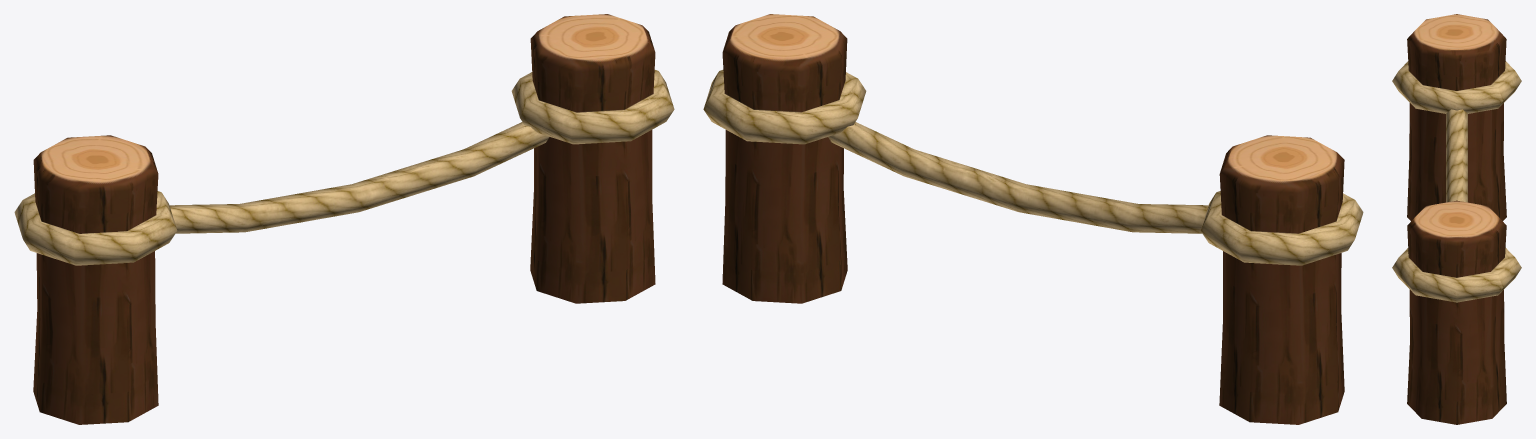
Rendered from OBS0110223.fbx.
3 views of the same model, side by side, from view 1: azimuth 30°, elevation 25°; view 2: azimuth 150°, elevation 25°; view 3: azimuth 270°, elevation 25° (orthographic). The views are drawn at different scales.
Visible parts, largest first — view 1: smOBS0110223; view 2: smOBS0110223; view 3: smOBS0110223.
Part boxes in pixels (left/top/right/bottom): smOBS0110223: left=14, top=14, right=674, bottom=424; smOBS0110223: left=703, top=14, right=1363, bottom=424; smOBS0110223: left=1392, top=14, right=1521, bottom=424.
Size of the model in its own units: 261 by 92.92 by 59.18.
Materials: 1 (1 with a texture image).
